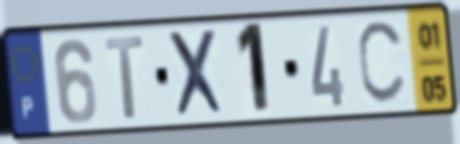1: (233, 20, 274, 121)
4: (309, 23, 346, 109)
6: (51, 35, 99, 127)
C: (355, 17, 408, 108)
T: (102, 33, 147, 123)
X: (164, 27, 230, 122)
